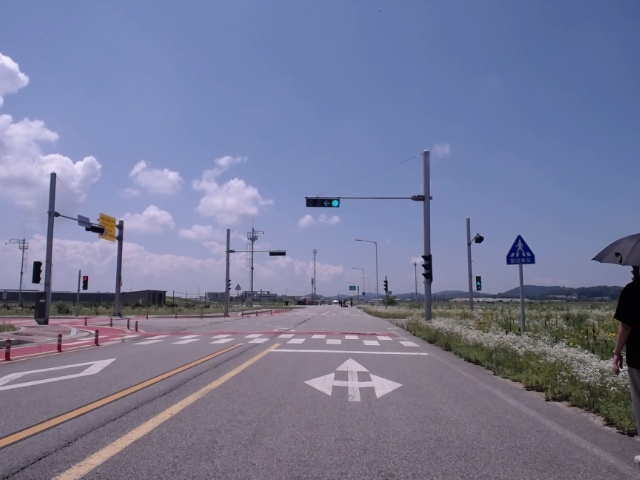all_green_4: (305, 196, 341, 206)
